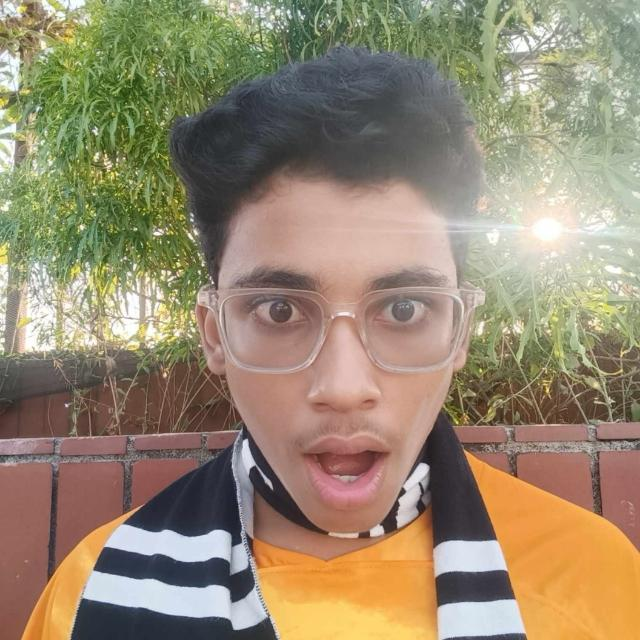Surprised: (171, 126, 516, 569)
